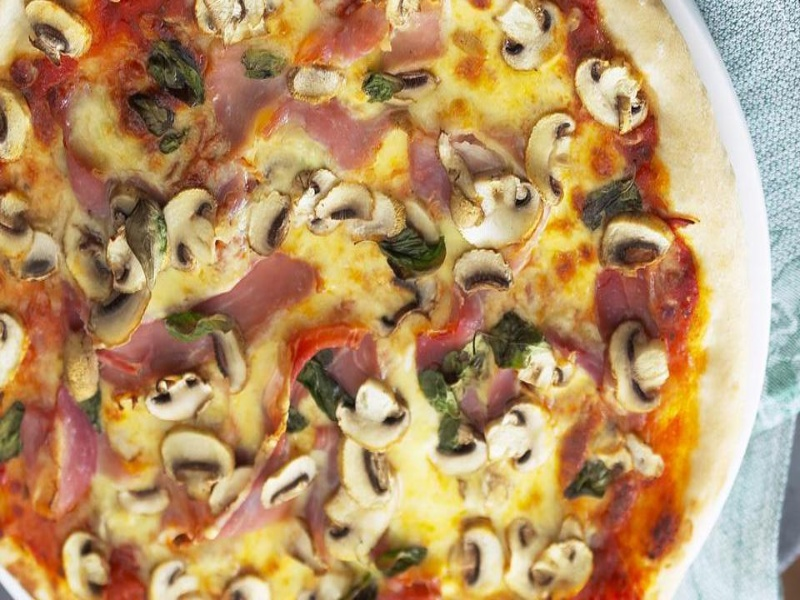champignon: (331, 377, 417, 456), (522, 104, 580, 214), (607, 316, 673, 412), (574, 54, 652, 134), (493, 2, 576, 74), (160, 186, 228, 272), (21, 1, 102, 72), (479, 400, 553, 472)
